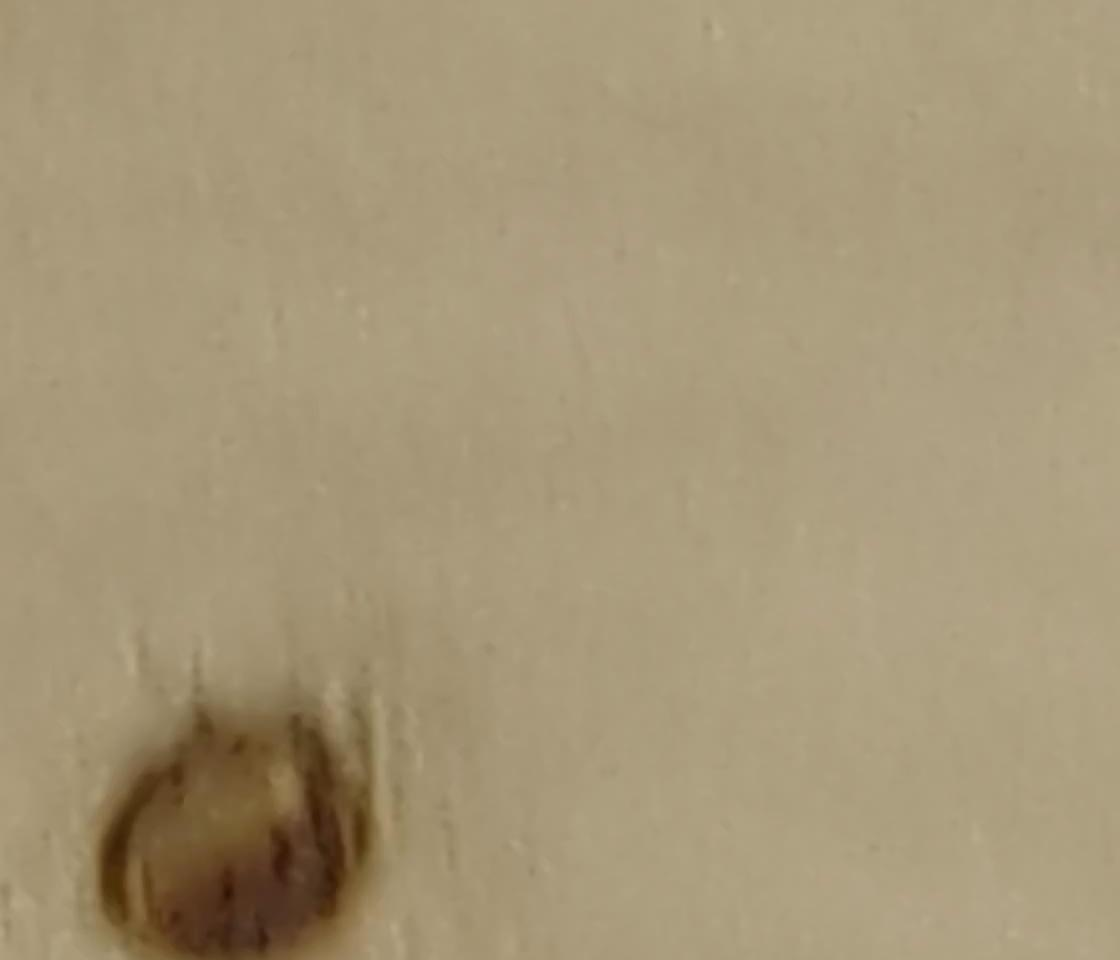rust: (96, 733, 333, 947)
